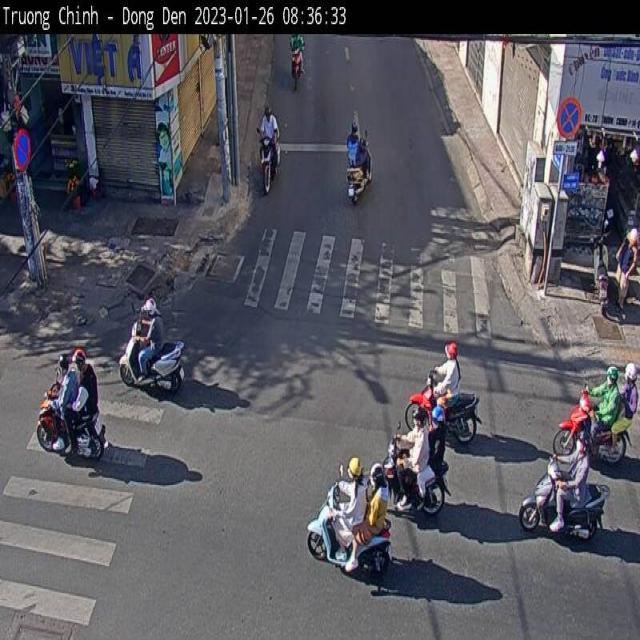helmet: (50, 350, 76, 398), (345, 450, 366, 494), (570, 427, 592, 458), (72, 349, 91, 378), (348, 112, 362, 143), (414, 409, 428, 435), (262, 103, 276, 127)
